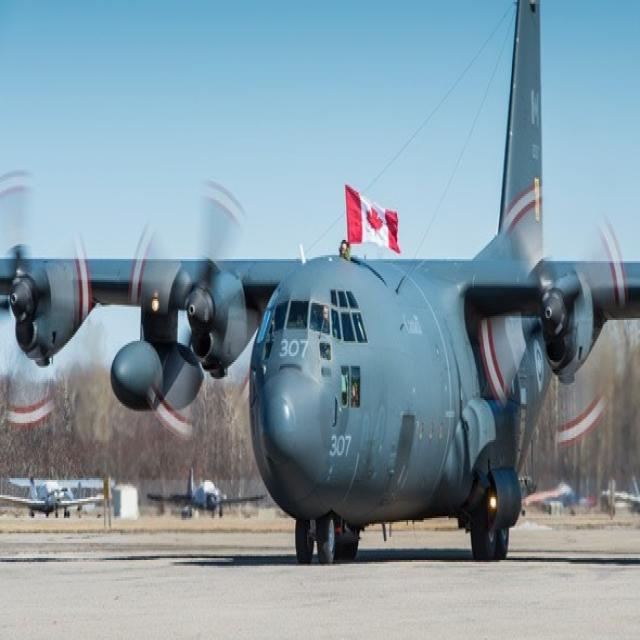C130: (2, 0, 640, 604)
